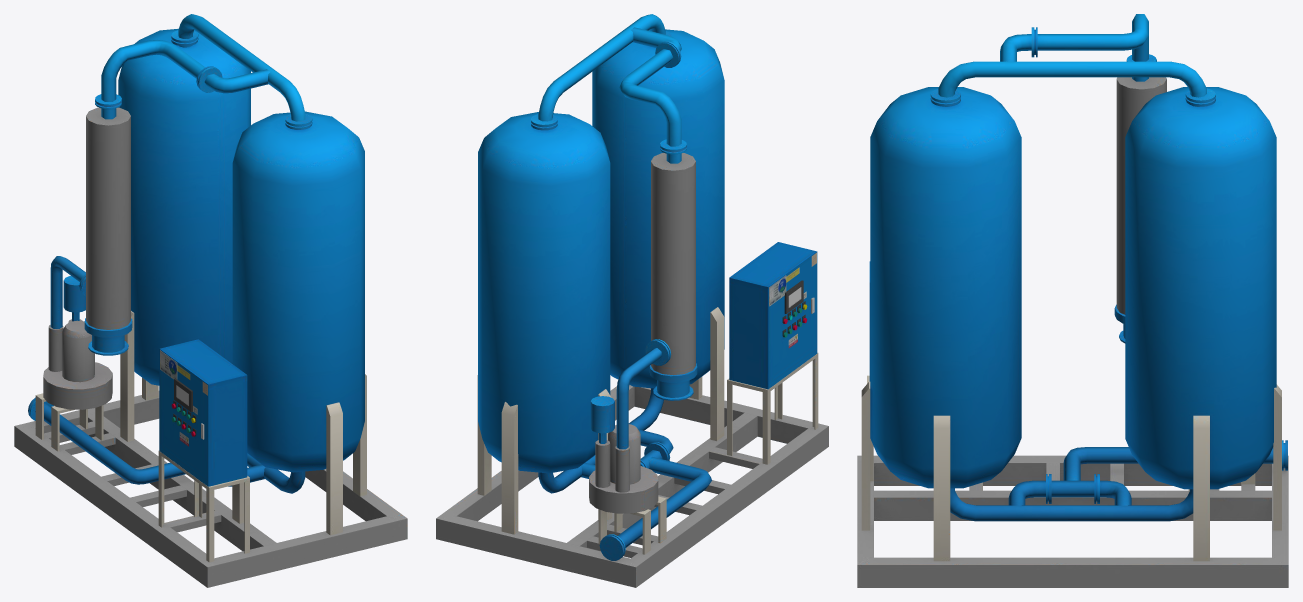
The model's file is LX_Xiganji.glb.
3 views of the same model, side by side, from view 1: azimuth 30°, elevation 25°; view 2: azimuth 150°, elevation 25°; view 3: azimuth 270°, elevation 25° (orthographic). The views are drawn at different scales.
Size of the model in its own units: 0.7148 by 1.51 by 1.19.
Materials: 2 (2 with a texture image).
